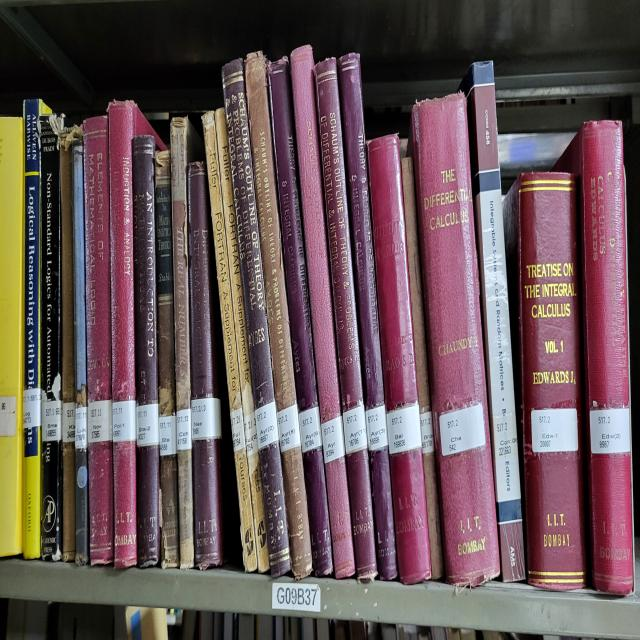Book: (411, 92, 500, 587), (555, 122, 634, 593), (245, 51, 312, 579), (502, 170, 586, 590), (222, 60, 290, 576), (290, 46, 355, 579), (460, 62, 525, 582), (315, 60, 378, 582), (269, 57, 332, 576), (338, 54, 398, 579), (202, 108, 269, 571), (368, 135, 431, 584), (109, 100, 148, 568), (401, 157, 444, 579), (170, 116, 204, 568), (188, 162, 222, 568), (84, 116, 114, 565), (132, 135, 160, 565), (24, 100, 50, 557), (155, 152, 180, 568), (40, 116, 62, 560), (72, 138, 89, 565), (60, 135, 76, 560)
Label: (439, 403, 485, 457), (531, 409, 579, 452), (590, 409, 630, 455), (386, 403, 421, 455), (342, 403, 368, 455), (191, 398, 221, 441), (255, 400, 279, 449), (365, 403, 388, 452), (321, 417, 345, 463), (278, 403, 300, 452), (299, 406, 322, 452), (88, 400, 112, 444), (136, 403, 159, 446), (112, 400, 136, 441), (41, 400, 61, 441), (159, 414, 176, 457), (244, 411, 259, 457), (230, 409, 246, 452), (24, 387, 41, 427), (176, 409, 191, 452), (420, 411, 434, 455), (75, 406, 88, 449), (62, 403, 75, 444)
